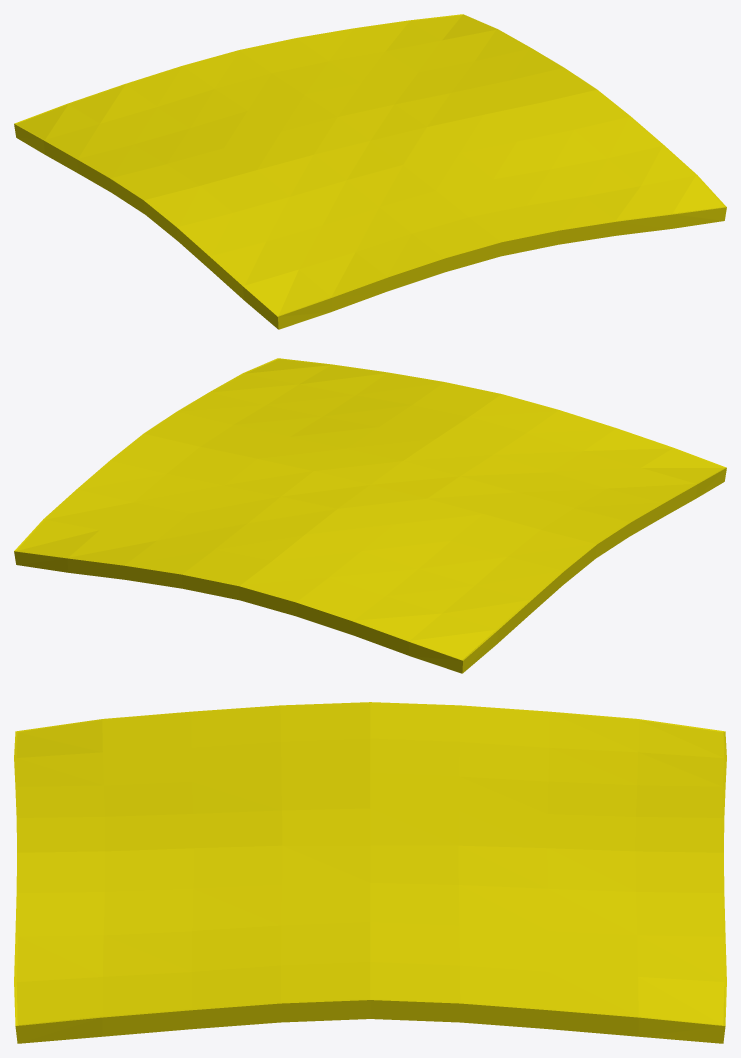
The model's file is cheese.fbx.
The picture shows the model from 3 angles, top to bottom: view 1: azimuth 30°, elevation 25°; view 2: azimuth 150°, elevation 25°; view 3: azimuth 270°, elevation 25°; orthographic projection. The views are drawn at different scales.
Visible parts, largest first — view 1: Cheese; view 2: Cheese; view 3: Cheese.
Part boxes in pixels (box(x1,y1,x2,y2)): Cheese: box(14, 14, 726, 329); Cheese: box(14, 358, 726, 673); Cheese: box(14, 702, 726, 1043).
Bounding box in the file's own units: 1.3 × 0.105 × 1.31.
